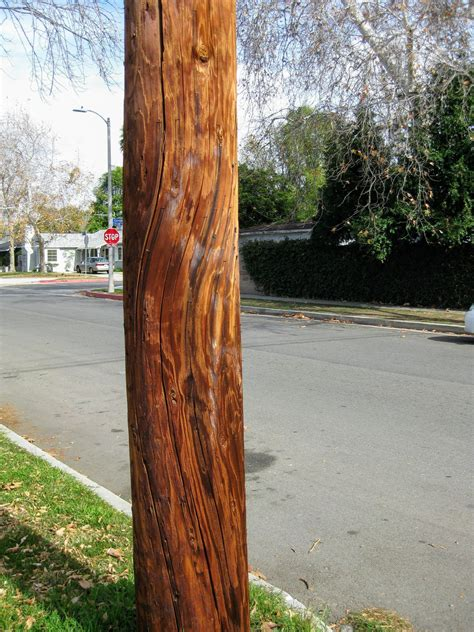pole: (117, 12, 272, 632)
